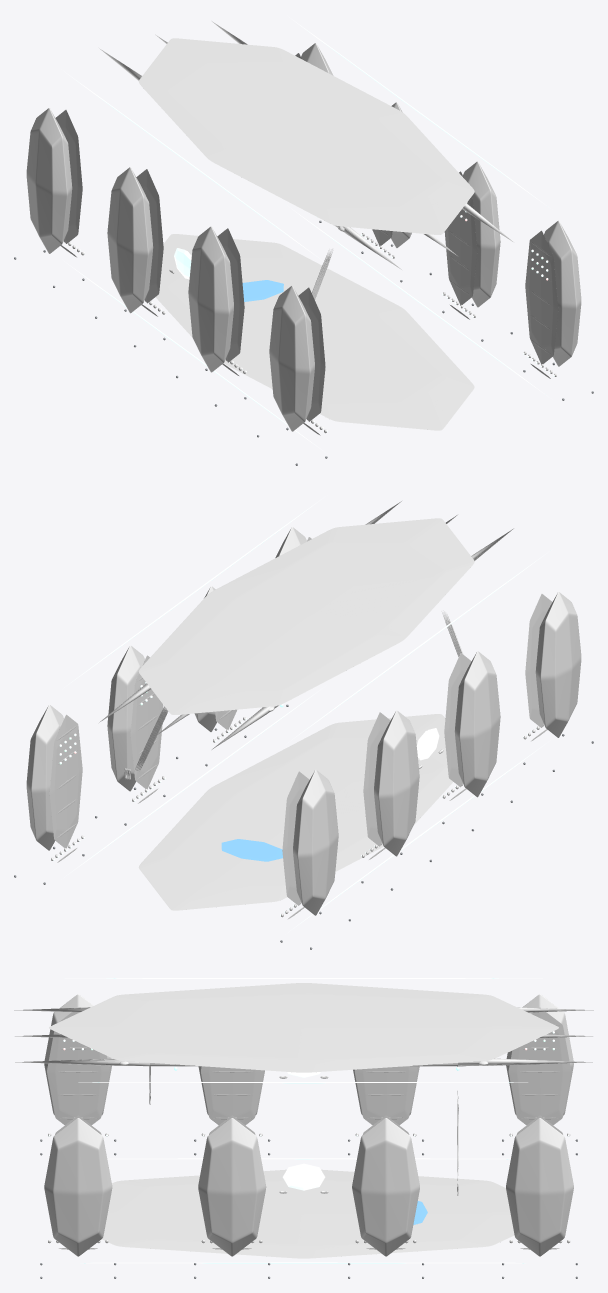
Rendered from server_room_r2_v3.glb.
3 renders of one model, top to bottom at view 1: azimuth 30°, elevation 25°; view 2: azimuth 150°, elevation 25°; view 3: azimuth 270°, elevation 25°, orthographic. The views are drawn at different scales.
Parts seen in each view (by area): view 1: ceiling, floor, rack_L_1_body, rack_L_3_body, rack_L_0_body, rack_L_2_body, rack_R_0_door, rack_R_0_body, rack_R_1_body, rack_R_1_door, rack_L_1_door, rack_L_3_door (+3 smaller); view 2: ceiling, floor, rack_L_0_body, rack_L_2_body, rack_L_1_body, rack_L_3_body, rack_R_3_door, rack_R_3_body, rack_R_2_body, rack_R_2_door, rack_L_2_door, rack_L_0_door (+3 smaller); view 3: ceiling, floor, rack_R_0_body, rack_R_1_body, rack_R_2_body, rack_R_3_body, rack_L_3_door, rack_L_0_door, rack_L_2_door, rack_L_1_door, pipe_2, rack_L_3_body (+7 smaller).
Part boxes in pixels (bbox=[...]): ceiling: bbox=[138, 38, 474, 234]; floor: bbox=[155, 234, 474, 430]; rack_L_1_body: bbox=[188, 226, 233, 372]; rack_L_3_body: bbox=[26, 108, 72, 253]; rack_L_0_body: bbox=[269, 286, 314, 431]; rack_L_2_body: bbox=[107, 167, 153, 313]; rack_R_0_door: bbox=[525, 230, 558, 364]; rack_R_0_body: bbox=[544, 220, 581, 366]; rack_R_1_body: bbox=[463, 161, 500, 307]; rack_R_1_door: bbox=[444, 171, 477, 304]; rack_L_1_door: bbox=[217, 228, 244, 362]; rack_L_3_door: bbox=[55, 110, 82, 243]; ceiling: bbox=[138, 518, 474, 714]; floor: bbox=[138, 714, 452, 910]; rack_L_0_body: bbox=[535, 592, 581, 737]; rack_L_2_body: bbox=[374, 710, 419, 856]; rack_L_1_body: bbox=[454, 651, 500, 797]; rack_L_3_body: bbox=[293, 770, 338, 915]; rack_R_3_door: bbox=[49, 714, 82, 847]; rack_R_3_body: bbox=[26, 704, 63, 850]; rack_R_2_body: bbox=[107, 645, 144, 791]; rack_R_2_door: bbox=[130, 655, 163, 788]; rack_L_2_door: bbox=[363, 712, 390, 846]; rack_L_0_door: bbox=[525, 594, 552, 727]; ceiling: bbox=[49, 983, 558, 1072]; floor: bbox=[102, 1169, 514, 1258]; rack_R_0_body: bbox=[44, 1118, 112, 1256]; rack_R_1_body: bbox=[198, 1118, 266, 1256]; rack_R_2_body: bbox=[352, 1118, 419, 1256]; rack_R_3_body: bbox=[506, 1118, 573, 1256]; rack_L_3_door: bbox=[508, 1007, 571, 1125]; rack_L_0_door: bbox=[47, 1007, 109, 1125]; rack_L_2_door: bbox=[354, 1066, 417, 1125]; rack_L_1_door: bbox=[201, 1066, 263, 1125]; pipe_2: bbox=[15, 1058, 592, 1066]; rack_L_3_body: bbox=[506, 994, 573, 1115].
Bounding box in the file's own units: 6.38 × 4.04 × 11.31.
